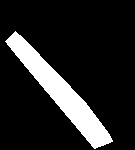parkingspot: (5, 31, 112, 148)
